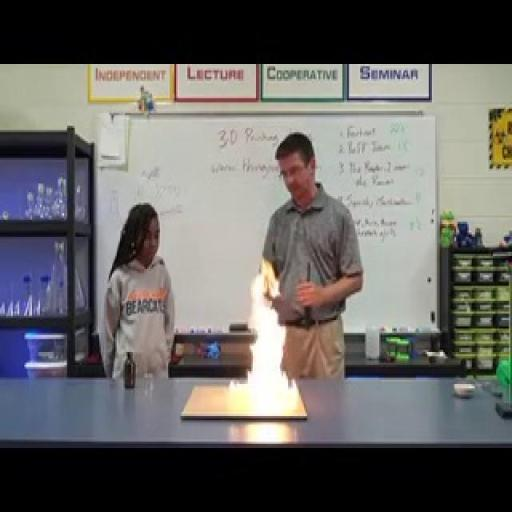smoke: (230, 234, 290, 412)
